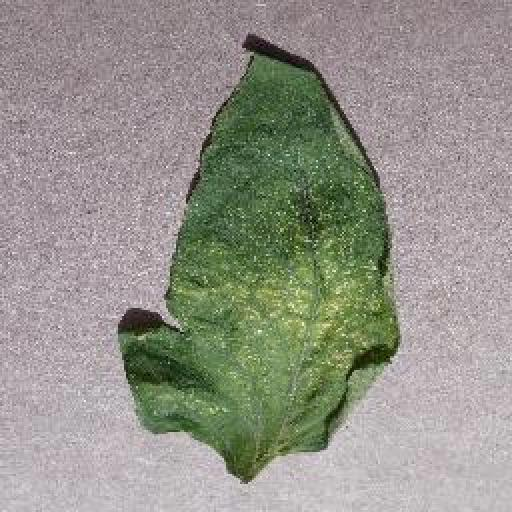disease_tomato: (121, 46, 399, 486)
